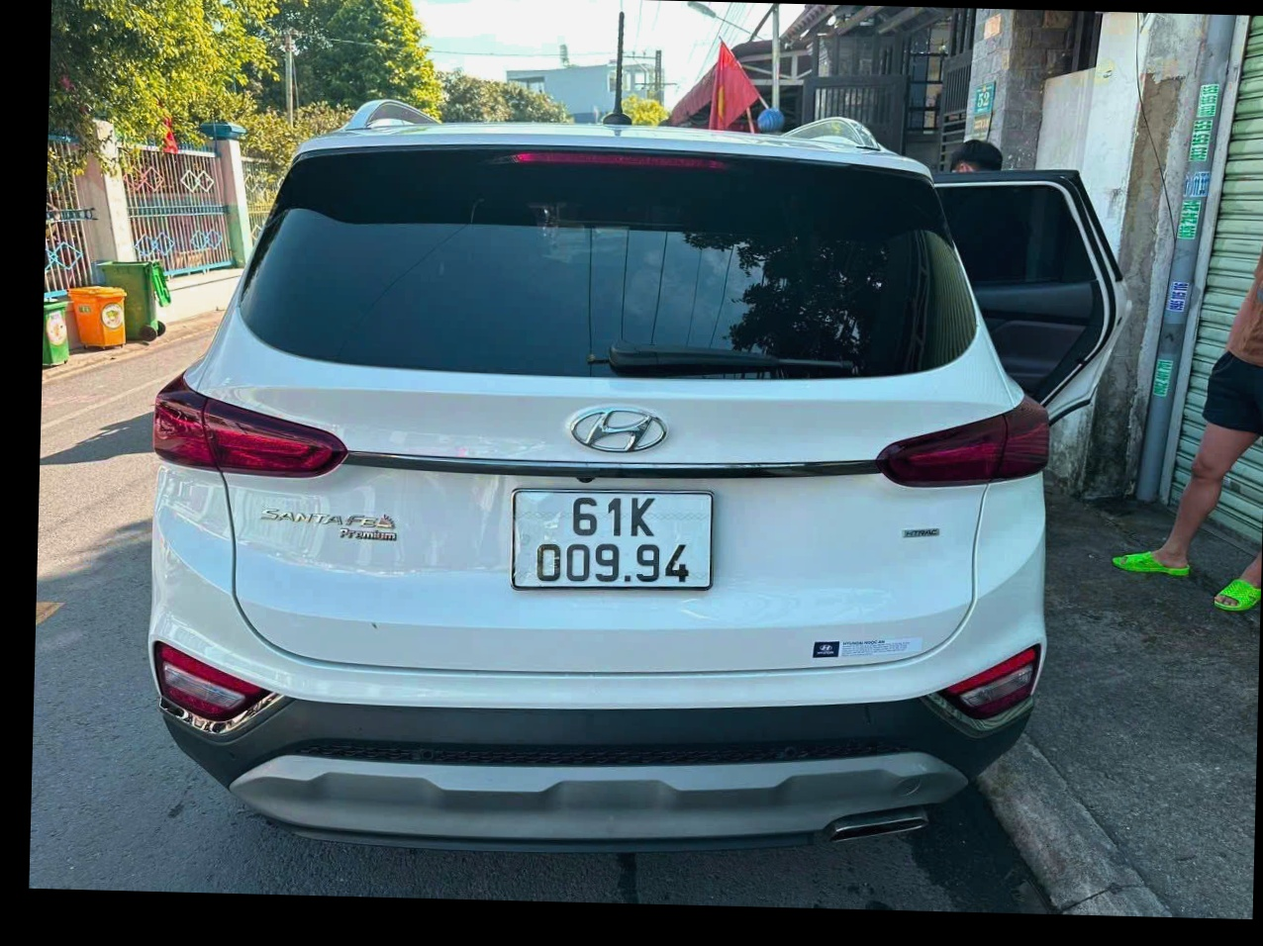Bien-so: (508, 486, 728, 622)
